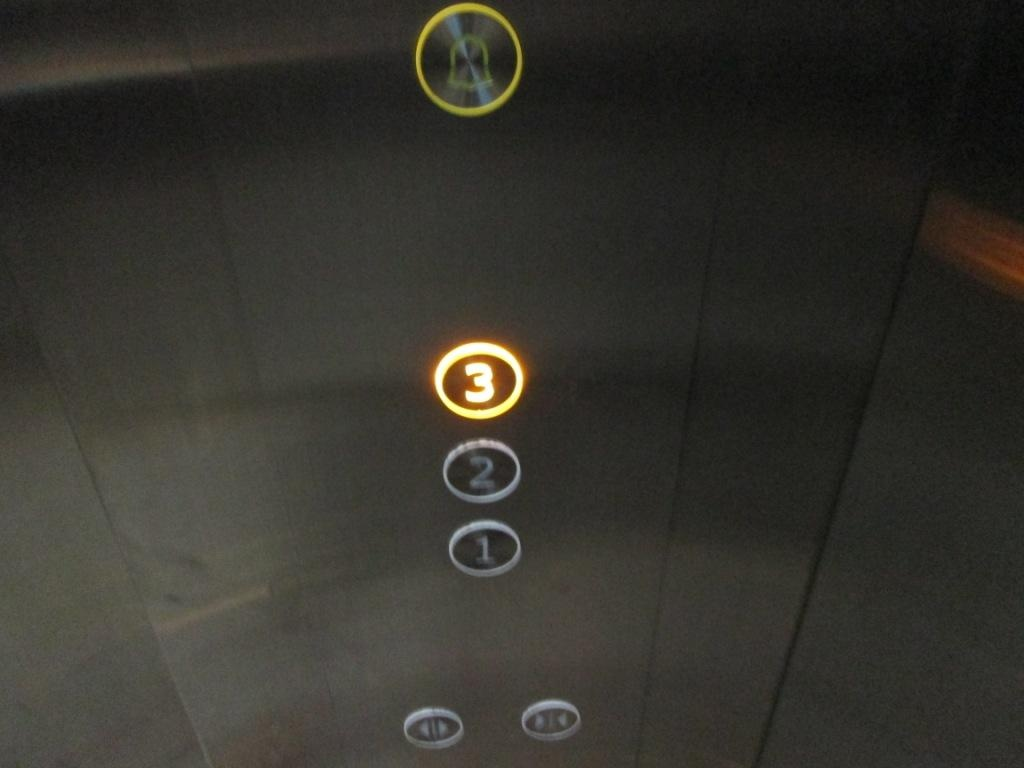1: (444, 517, 524, 581)
2: (440, 434, 524, 507)
3: (432, 335, 530, 425)
alarm: (411, 2, 530, 122)
close: (516, 697, 585, 745)
open: (397, 704, 467, 752)
